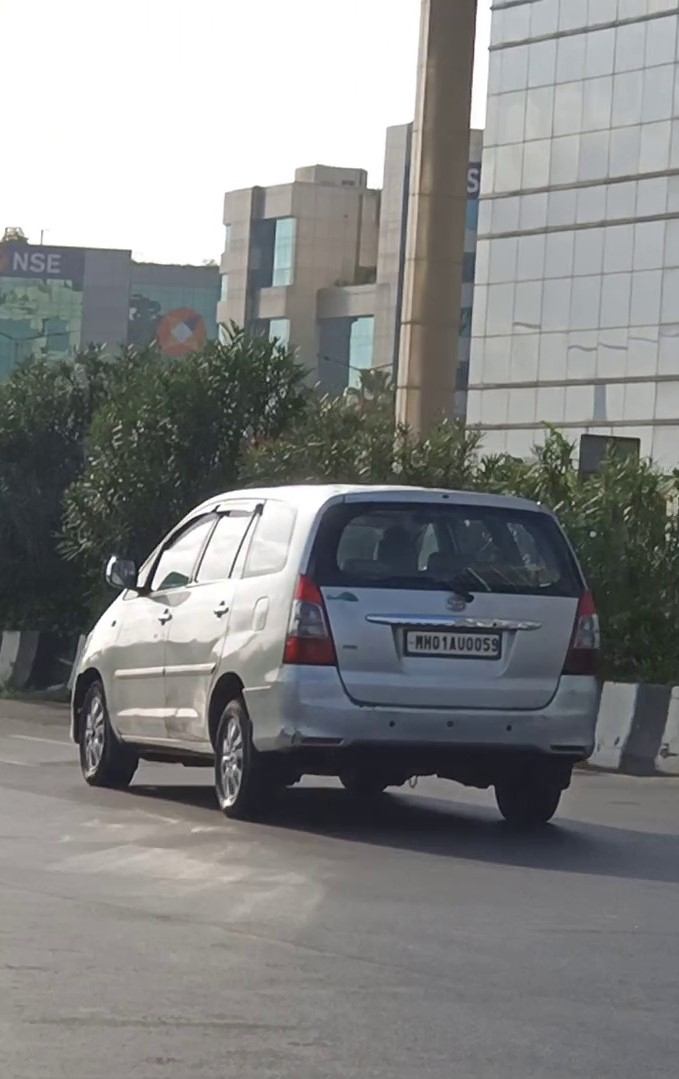MH01AU0059: (408, 626, 503, 658)
